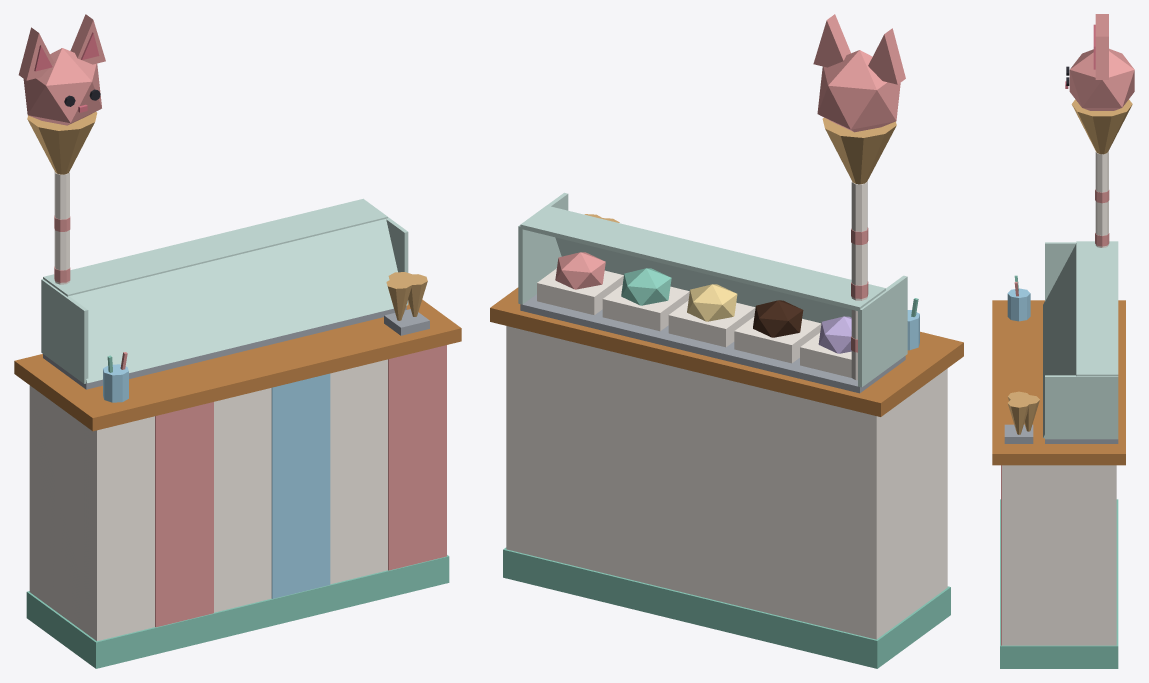
Rendered from CatCafe_Decor_IceCreamCounter.glb.
3 views of the same model, side by side, from view 1: azimuth 30°, elevation 25°; view 2: azimuth 150°, elevation 25°; view 3: azimuth 270°, elevation 25° (orthographic). The views are drawn at different scales.
Parts seen in each view (by area): view 1: CatCafe_Decor_IceCreamCounter, CatCafe_Decor_IceCreamCounter_Glass; view 2: CatCafe_Decor_IceCreamCounter, CatCafe_Decor_IceCreamCounter_Glass; view 3: CatCafe_Decor_IceCreamCounter, CatCafe_Decor_IceCreamCounter_Glass.
Part boxes in pixels (<box>): CatCafe_Decor_IceCreamCounter: <box>14,14,461,668</box>; CatCafe_Decor_IceCreamCounter_Glass: <box>41,198,408,383</box>; CatCafe_Decor_IceCreamCounter: <box>490,14,963,668</box>; CatCafe_Decor_IceCreamCounter_Glass: <box>518,192,907,387</box>; CatCafe_Decor_IceCreamCounter: <box>992,14,1134,668</box>; CatCafe_Decor_IceCreamCounter_Glass: <box>1043,241,1118,439</box>.
Size of the model in its own units: 3.86 by 5.86 by 1.49.
Materials: 1 (1 with a texture image).
